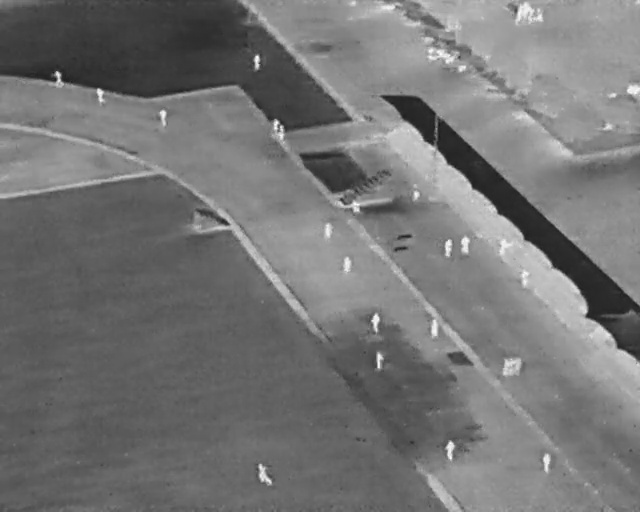DontCare: (423, 35, 475, 76), (515, 2, 544, 24)
Person: (258, 464, 273, 486), (445, 440, 456, 461), (410, 183, 421, 203), (53, 70, 64, 87), (461, 235, 470, 255), (444, 238, 453, 258), (324, 222, 334, 240), (343, 256, 353, 274), (96, 87, 106, 105), (372, 312, 380, 334), (159, 108, 168, 127), (521, 270, 530, 289), (431, 319, 439, 340), (543, 452, 551, 472), (253, 53, 261, 73), (376, 351, 384, 369), (515, 358, 522, 376), (279, 124, 286, 142), (273, 119, 280, 136), (503, 358, 509, 377), (353, 197, 360, 213), (509, 358, 515, 376)
